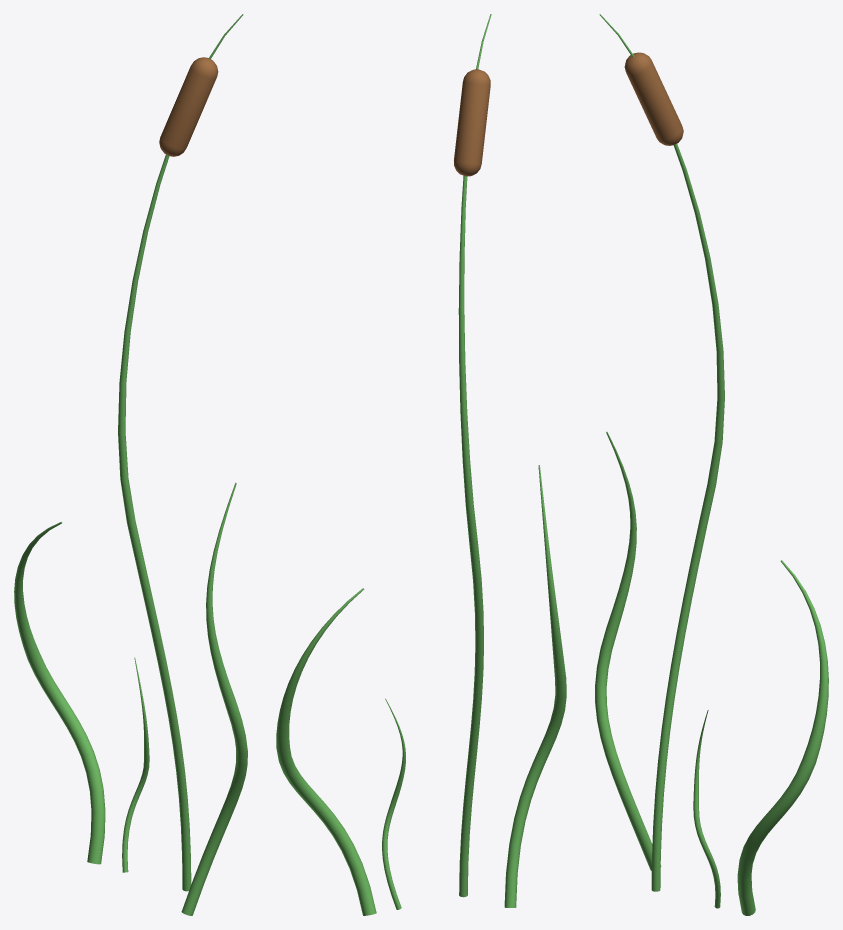
File: grass2.fbx
3 views of the same model, side by side, from view 1: azimuth 90°, elevation 25°; view 2: azimuth 150°, elevation 25°; view 3: azimuth 270°, elevation 25° (orthographic).
Parts seen in each view (by area): view 1: BézierCurve.004, BézierCurve.003, BézierCurve.005, Roundcube, BézierCurve.006; view 2: BézierCurve.004, BézierCurve.005, BézierCurve.003, Roundcube, BézierCurve.006; view 3: BézierCurve.004, BézierCurve.005, BézierCurve.003, Roundcube, BézierCurve.006.
Boxes of the visible parts, x1,y1,x2,y2 form: BézierCurve.004: (118,14,243,891); BézierCurve.003: (14,521,105,864); BézierCurve.005: (181,482,247,915); Roundcube: (159,57,218,156); BézierCurve.006: (122,657,149,872); BézierCurve.004: (458,14,491,897); BézierCurve.005: (504,465,566,907); BézierCurve.003: (276,588,376,915); Roundcube: (454,69,490,176); BézierCurve.006: (382,698,405,909); BézierCurve.004: (599,14,724,891); BézierCurve.005: (595,431,661,870); BézierCurve.003: (737,560,828,915); Roundcube: (624,52,683,145); BézierCurve.006: (693,709,720,908).
Bounding box in the file's own units: 118 × 499 × 120.
